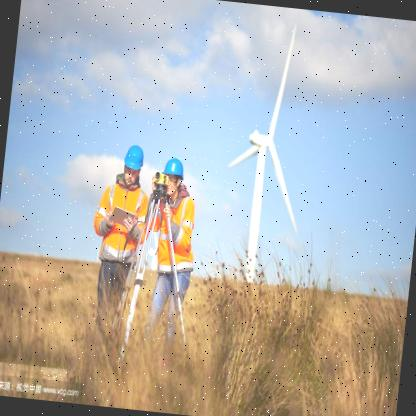capacete: (119, 141, 146, 190), (158, 154, 186, 198)
colete_refletivo: (87, 179, 152, 263), (146, 191, 200, 272)
